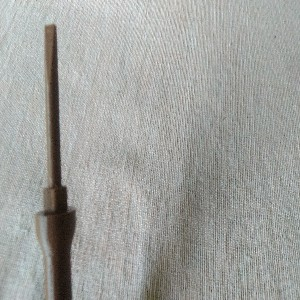obeng: (33, 22, 77, 300)
